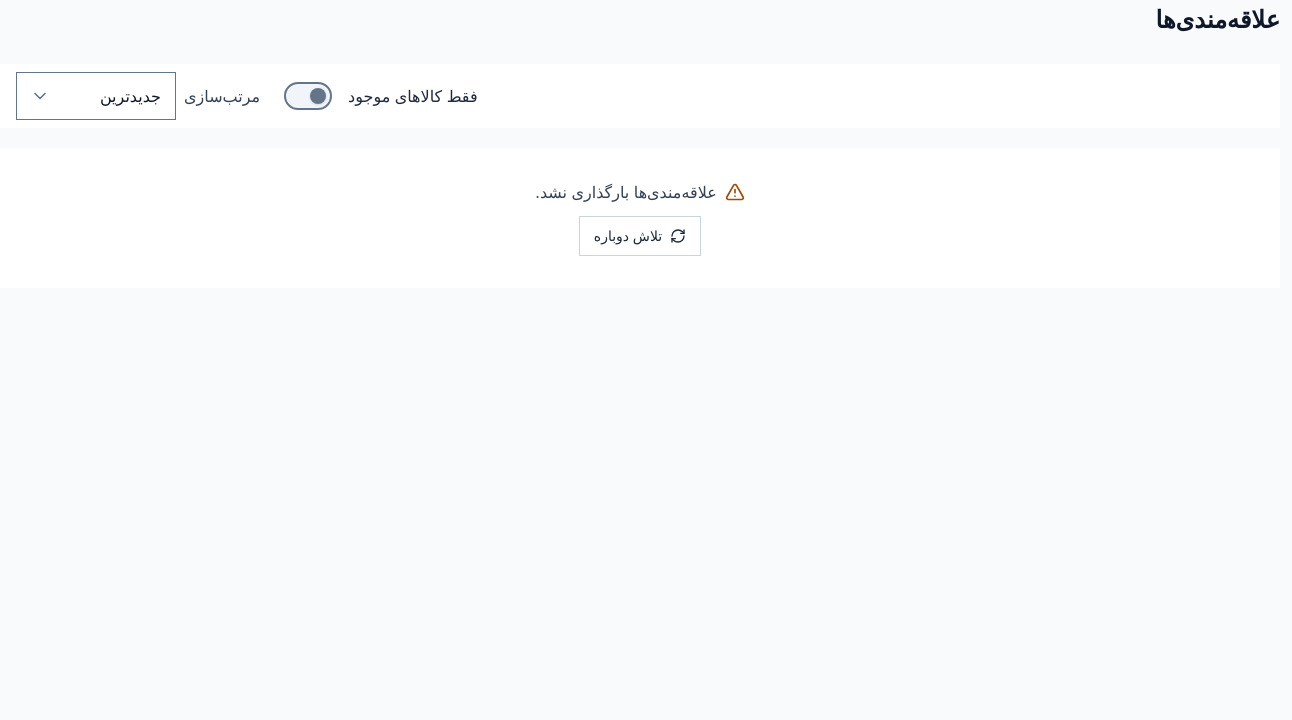
Scenario: WishlistPage › a failed read (a 404 on page 1 too: no page past the end): «تلاش دوباره» reads it again
Expected: the text "علاقه‌مندی‌ها بارگذاری نشد." is shown, [535,180,745,204]
Click the button "تلاش دوباره" at (640, 236), box [579,216,701,256]
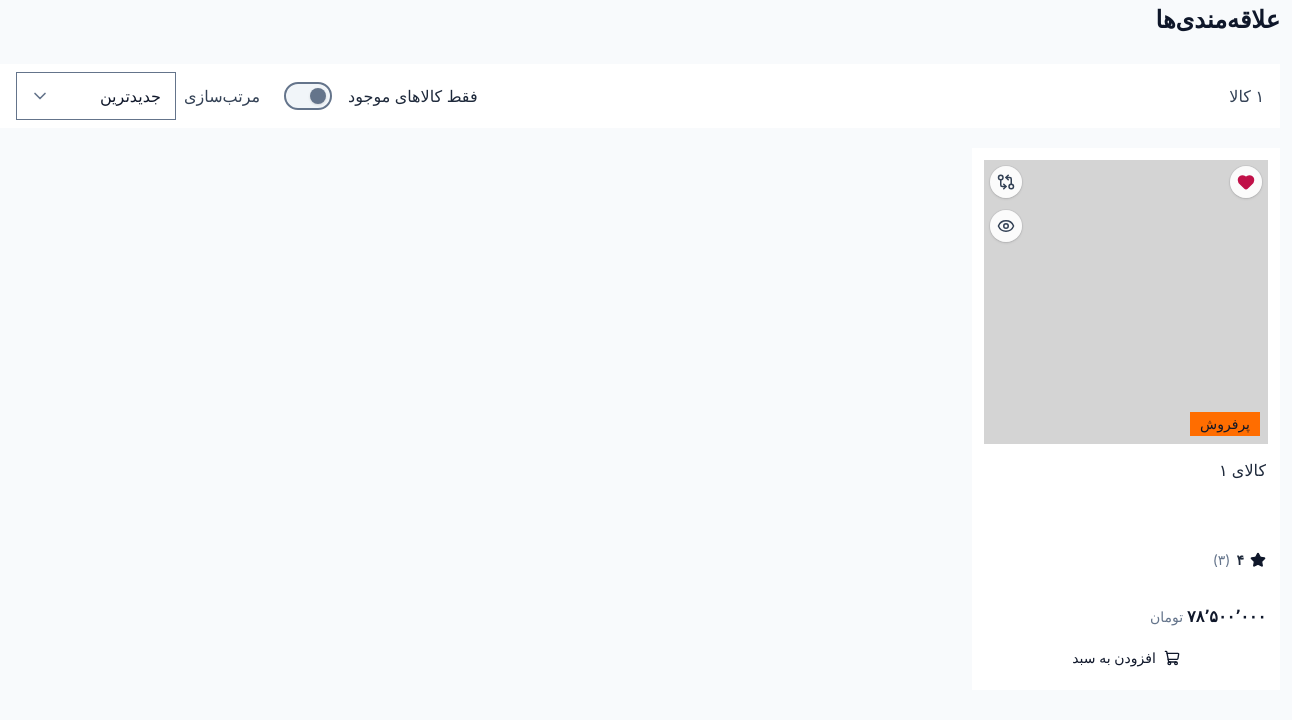
Now the element showing "کالای ۱ پرفروش ۴ (۳) ۷۸٬۵۰۰٬۰۰۰ تومان افزودن به سبد" is shown, box [972,148,1280,690]
